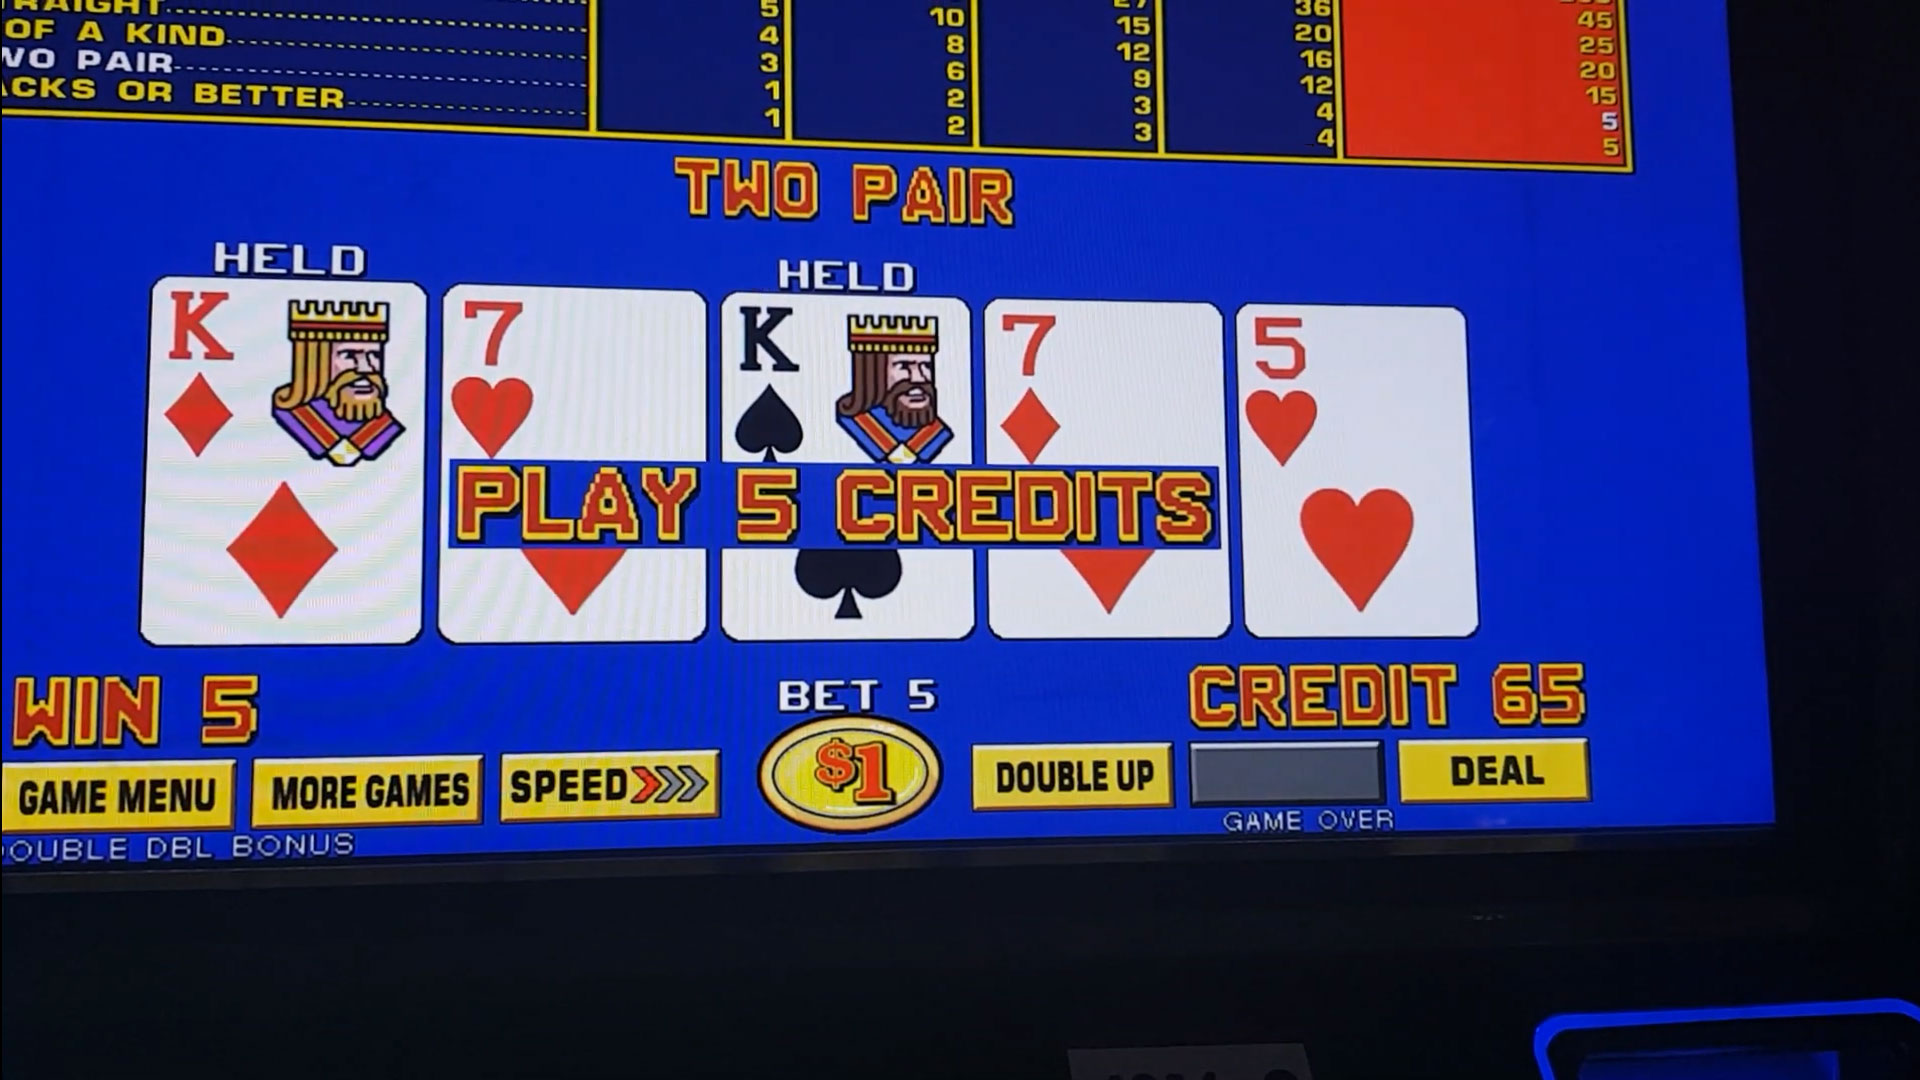D7: (990, 311, 1221, 465)
DK: (160, 287, 415, 465)
H5: (1244, 306, 1468, 477)
H7: (446, 294, 702, 454)
SK: (731, 303, 965, 458)
